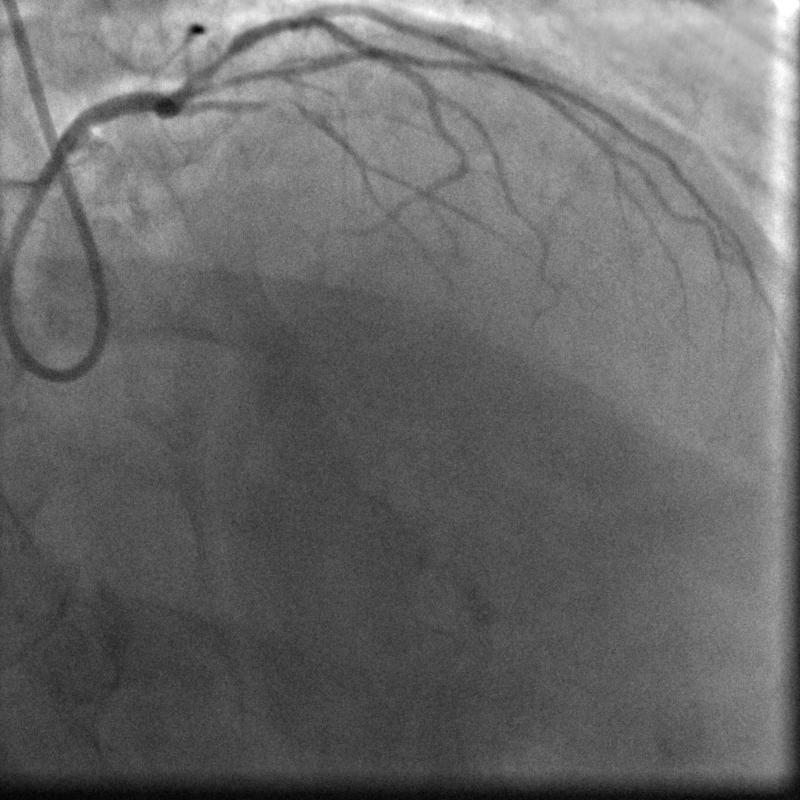Stenosis: (201, 41, 241, 74)
